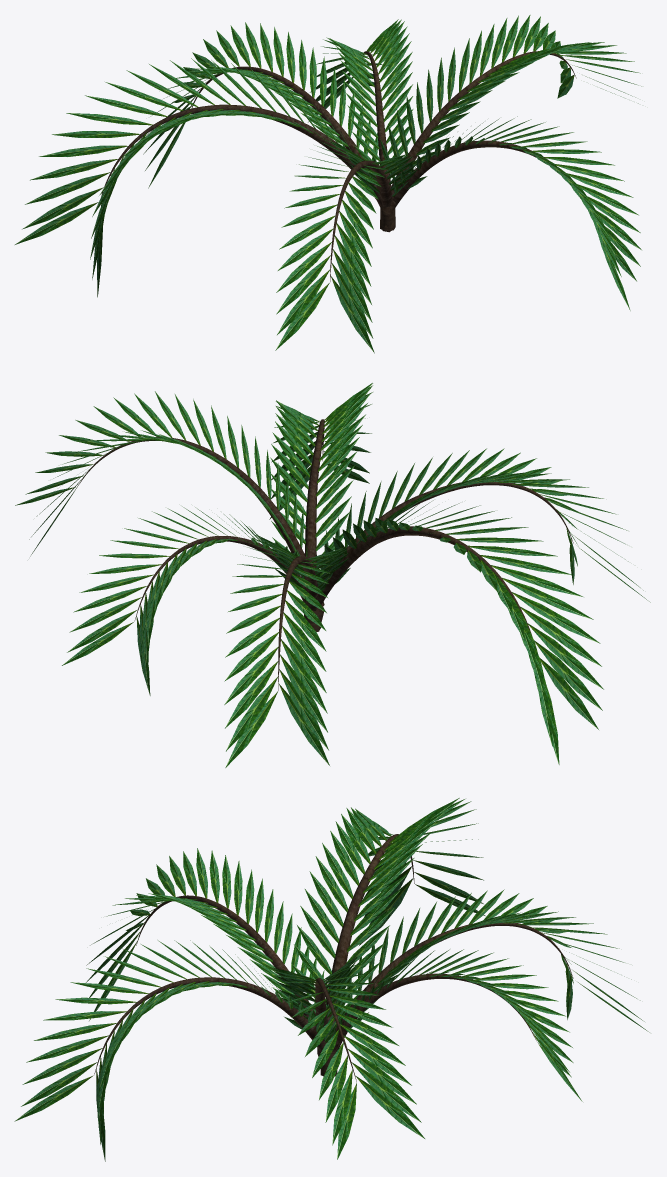
The model's file is Amazonie_Fougere.fbx.
The picture shows the model from 3 angles, top to bottom: view 1: azimuth 30°, elevation 25°; view 2: azimuth 150°, elevation 25°; view 3: azimuth 270°, elevation 25°; orthographic projection. The views are drawn at different scales.
Visible parts, largest first — view 1: leaves.000, leaves.002, leaves.005, leaves.003, leaves.004, leaves.001, tree.002, tree.005, tree.003, tree.001, tree.000, tree.004; view 2: leaves.003, leaves.002, leaves.001, leaves.005, leaves.004, leaves.000, tree.002, tree.005, tree.001, tree.000, tree.004, tree.003; view 3: leaves.002, leaves.005, leaves.000, leaves.001, leaves.003, leaves.004, tree.002, tree.001, tree.003, tree.000, tree.004, tree.005.
Boxes of the visible parts, x1,y1,x2,y2 form: leaves.000: (275, 139, 417, 353); leaves.002: (15, 58, 372, 297); leaves.005: (372, 15, 641, 189); leaves.003: (143, 22, 378, 188); leaves.004: (308, 19, 413, 178); leaves.001: (393, 116, 641, 310); tree.002: (101, 104, 395, 231); tree.005: (381, 51, 576, 232); tree.003: (191, 66, 380, 206); tree.001: (393, 140, 547, 208); tree.000: (330, 160, 392, 281); tree.004: (363, 51, 394, 214); leaves.003: (224, 535, 348, 767); leaves.002: (315, 500, 603, 764); leaves.001: (269, 383, 372, 576); leaves.005: (15, 391, 307, 556); leaves.004: (62, 506, 328, 695); leaves.000: (317, 448, 650, 602); tree.002: (304, 526, 531, 634); tree.005: (78, 437, 324, 628); tree.001: (304, 419, 324, 572); tree.000: (322, 481, 573, 602); tree.004: (134, 536, 306, 621); tree.003: (278, 556, 318, 690); leaves.002: (291, 798, 485, 1015); leaves.005: (271, 956, 424, 1159); leaves.000: (86, 848, 326, 1020); leaves.001: (14, 940, 335, 1161); leaves.003: (340, 889, 649, 1032); leaves.004: (333, 949, 582, 1101); tree.002: (320, 834, 414, 1076); tree.001: (94, 977, 326, 1074); tree.003: (335, 922, 573, 1051); tree.000: (136, 895, 315, 1017); tree.004: (332, 973, 536, 1051); tree.005: (315, 978, 356, 1082).
Bounding box in the file's own units: 725 × 223 × 663.
